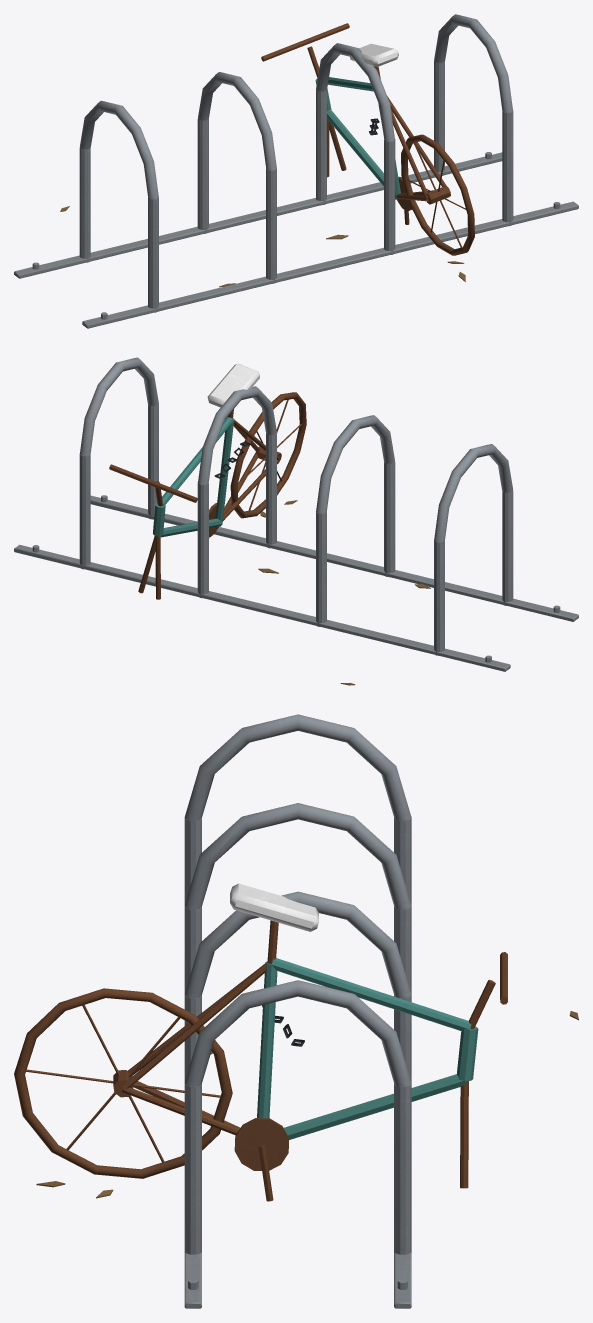
File: bike_rack.glb
3 views of the same model, one above another, from view 1: azimuth 30°, elevation 25°; view 2: azimuth 150°, elevation 25°; view 3: azimuth 270°, elevation 25° (orthographic). The views are drawn at different scales.
Parts seen in each view (by area): view 1: bike_rack; view 2: bike_rack; view 3: bike_rack.
Boxes of the visible parts, x1,y1,x2,y2 form: bike_rack: (14,14,578,328); bike_rack: (14,357,578,685); bike_rack: (14,714,578,1308).
Size of the model in its own units: 2.5 by 0.9158 by 1.62.
7 materials, 7 textured.
